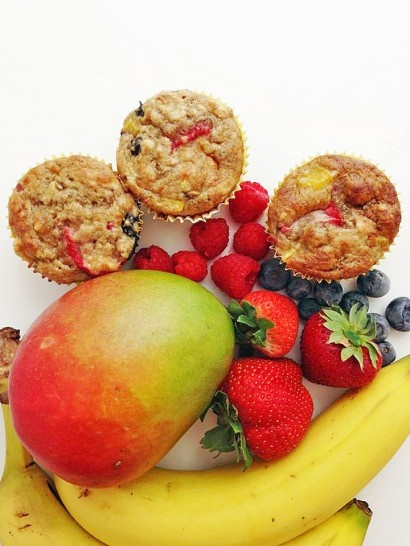background: (0, 77, 263, 465)
